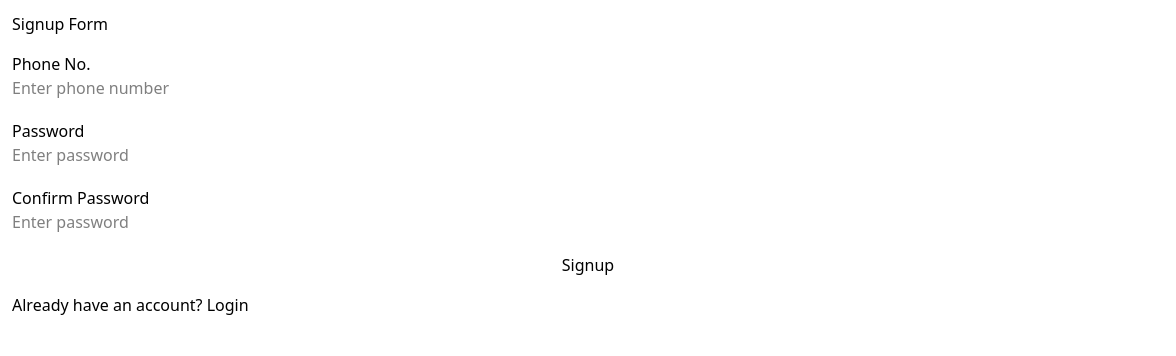
Test: Signup Component › shows validation error for invalid phone number
The width and height of the screenshot is (1176, 356).
Type "123" into the field labelled "Phone No." at (128, 88), box [12,76,243,100]
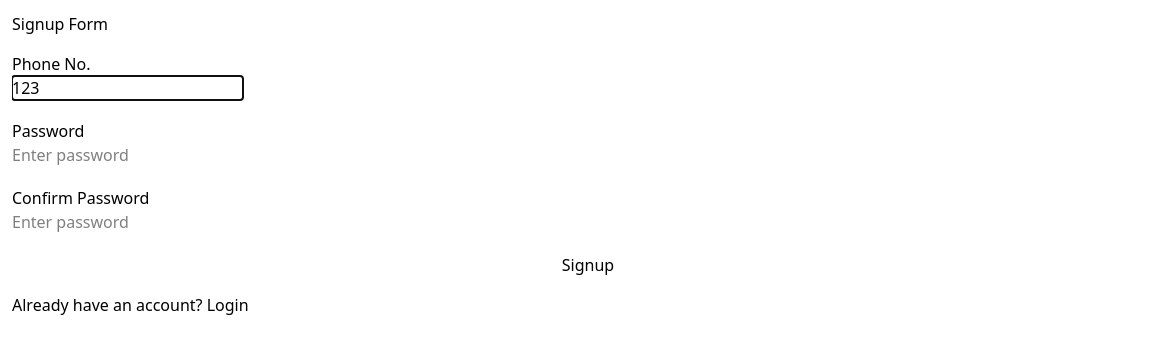
Type "password123" into the password field labelled "Password" at (128, 155), box [12,143,243,167]
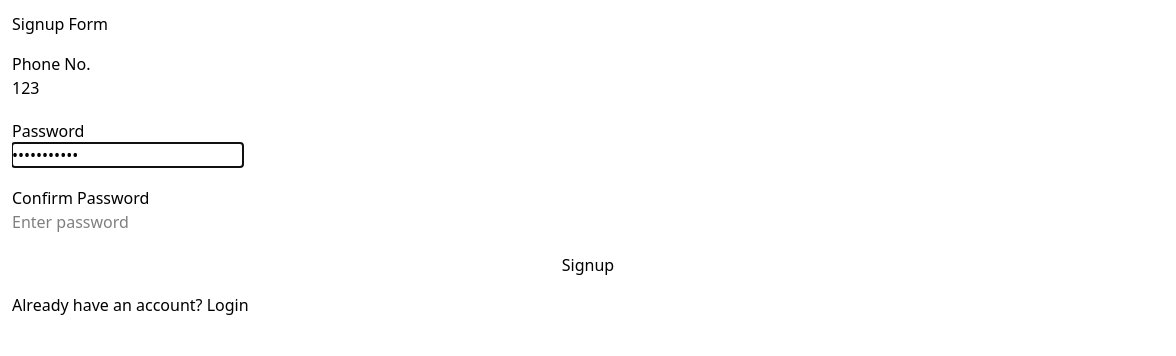
Type "password123" into the password field labelled "Confirm Password" at (128, 222), box [12,210,243,234]
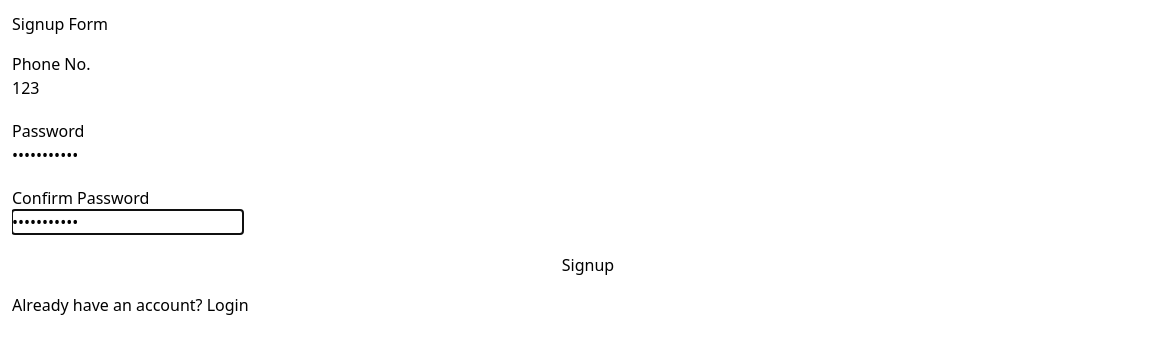
Click the button "Signup" at (588, 265), box [12,253,1164,277]
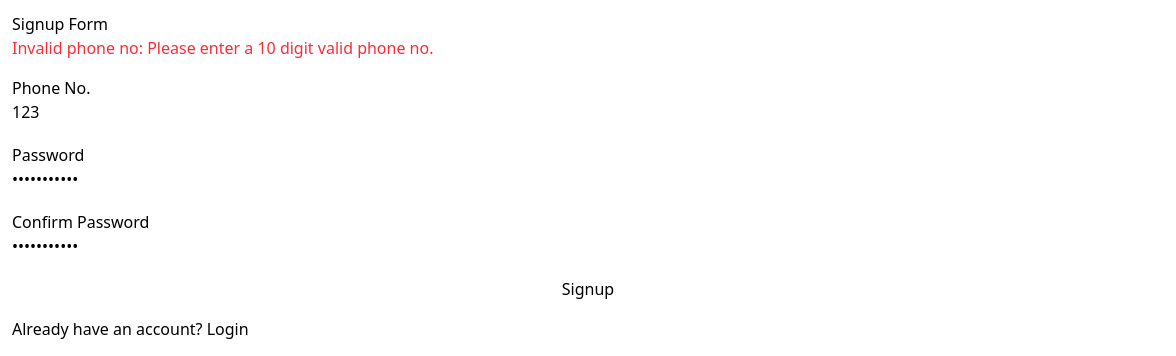
Check: the text "Invalid phone no: Please enter a 10 digit valid phone no." is shown, box [12,37,434,59]
